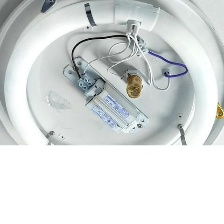light_bulb: (0, 0, 220, 173)
